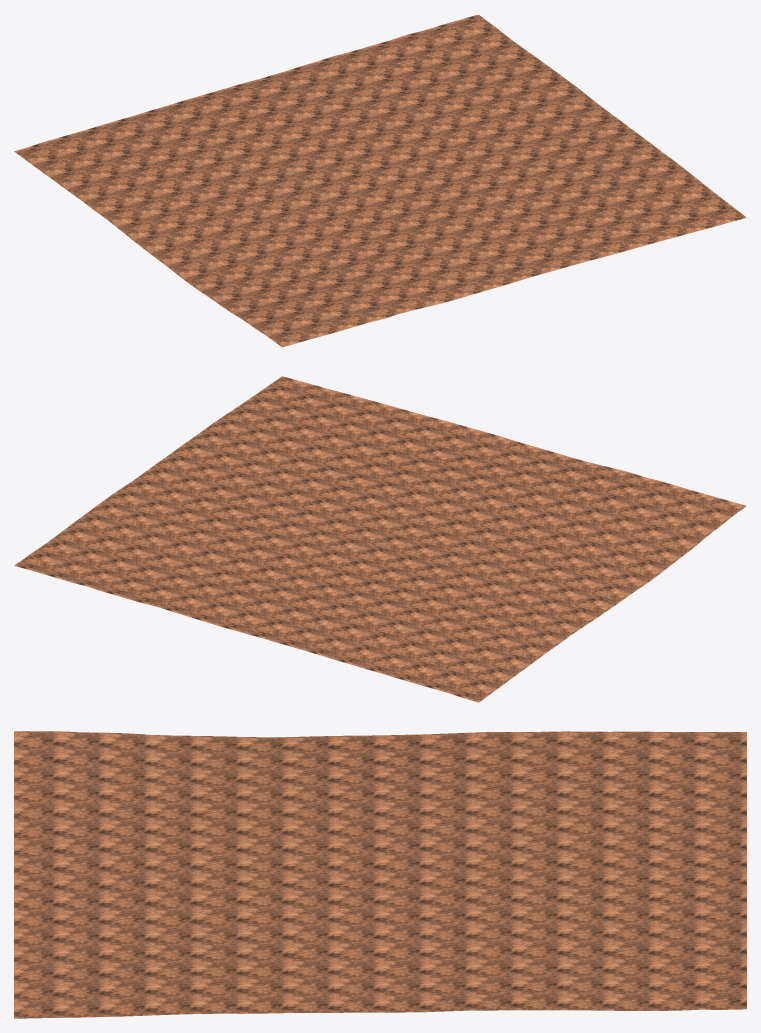
Rendered from terrain_10_11.dae.
3 renders of one model, top to bottom at view 1: azimuth 30°, elevation 25°; view 2: azimuth 150°, elevation 25°; view 3: azimuth 270°, elevation 25°, orthographic. The views are drawn at different scales.
Parts seen in each view (by area): view 1: terrain_10_11-node; view 2: terrain_10_11-node; view 3: terrain_10_11-node.
Part boxes in pixels (x1,y1,x2,y2): terrain_10_11-node: [14, 14, 746, 347]; terrain_10_11-node: [14, 376, 746, 702]; terrain_10_11-node: [14, 731, 746, 1018].
Size of the model in its own units: 128 by 128 by 7.26.
Materials: 1 (1 with a texture image).
